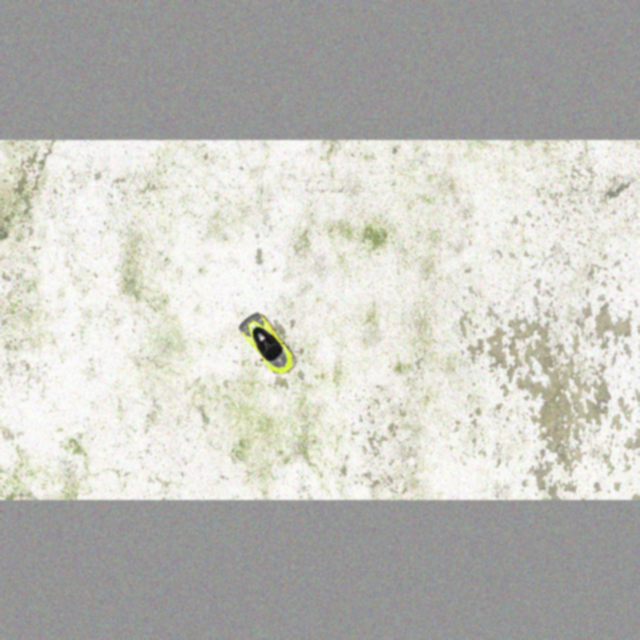car: (234, 307, 300, 380)
